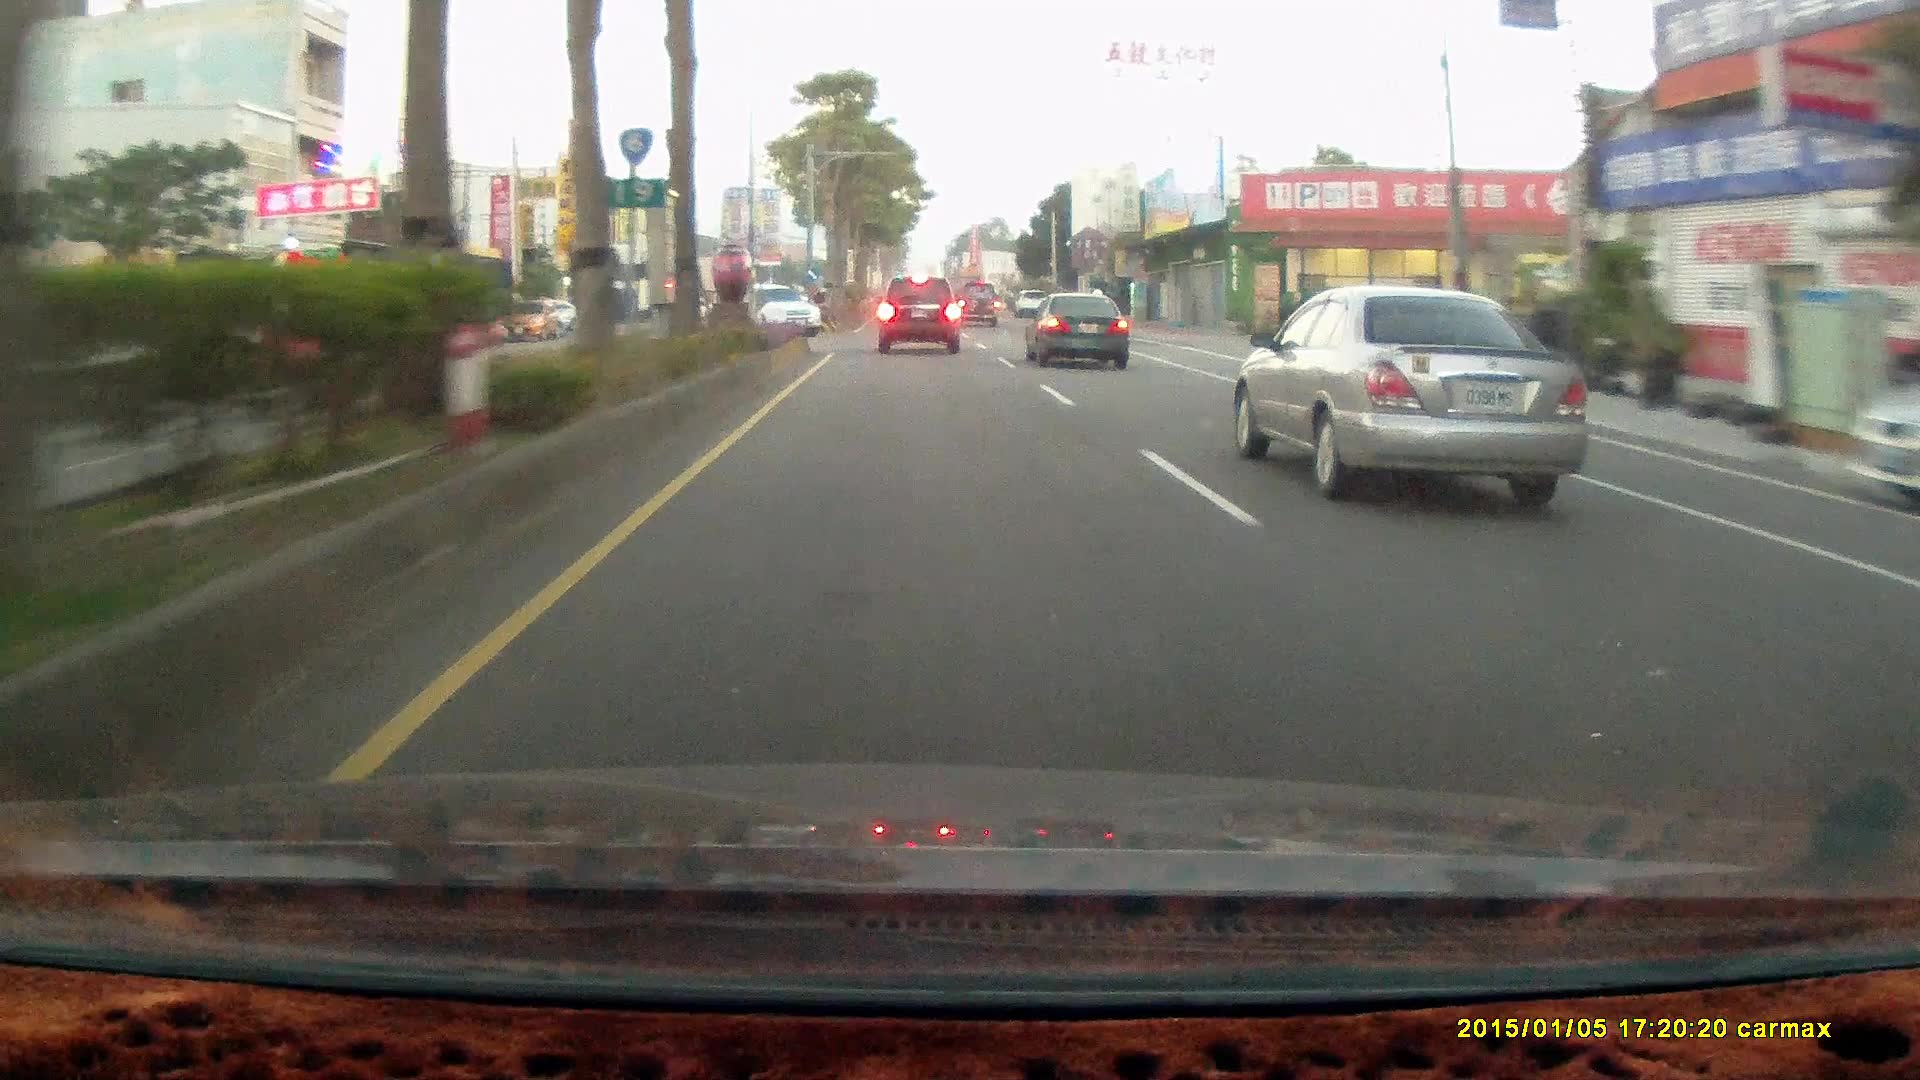vehicle: (1238, 287, 1582, 504), (1836, 320, 1920, 512), (1840, 322, 1919, 512), (1025, 291, 1134, 375), (1022, 289, 1127, 365), (878, 273, 967, 357), (876, 273, 957, 349), (746, 277, 822, 336), (752, 284, 823, 342), (953, 280, 1001, 330)
